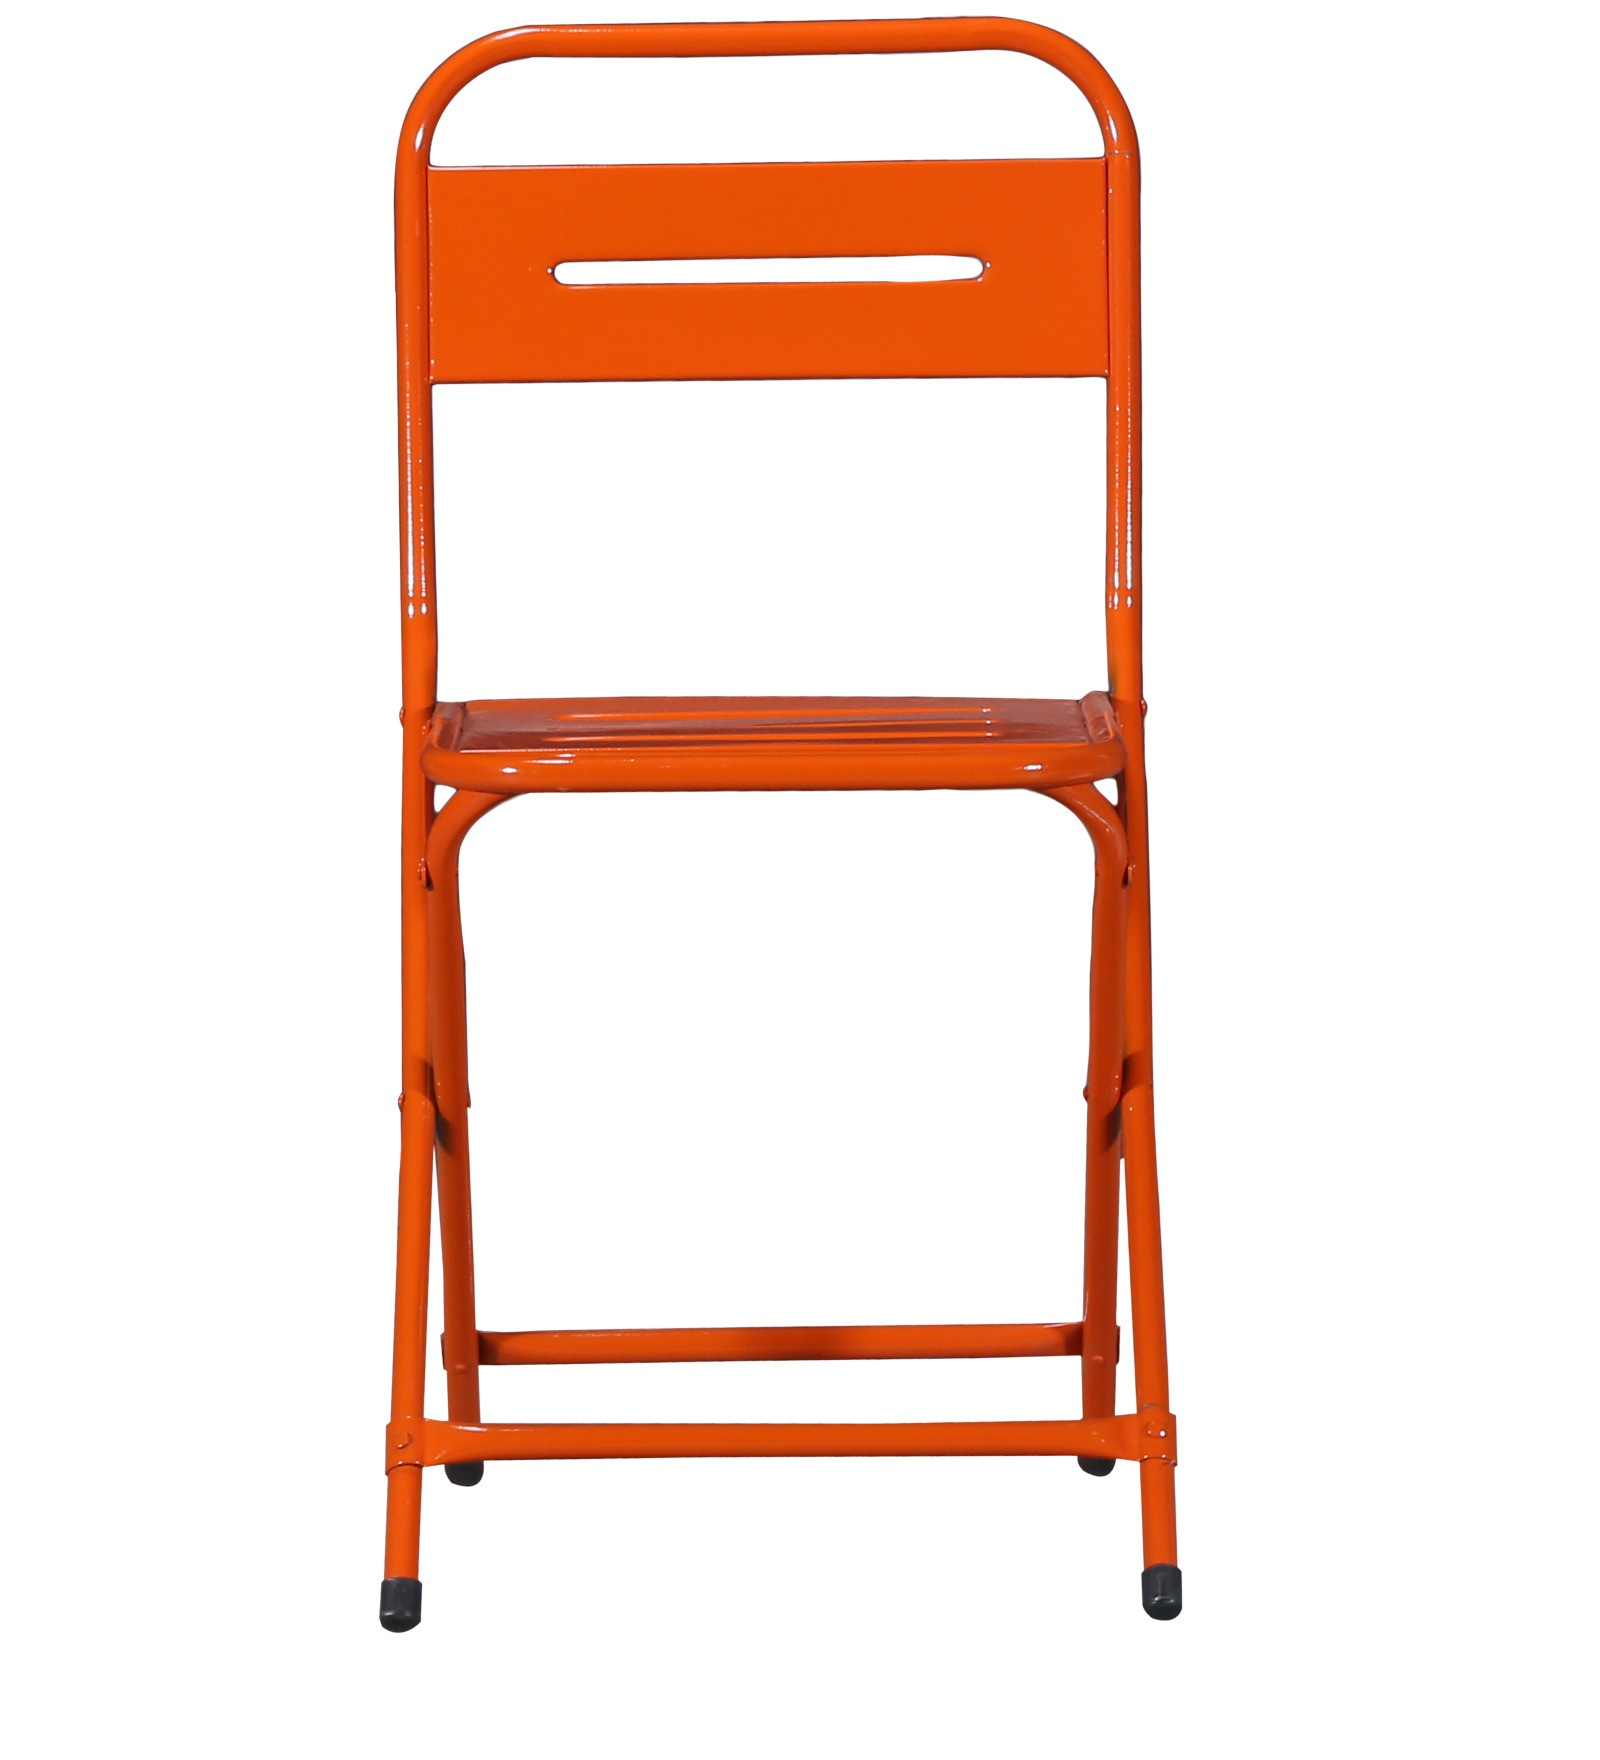Marandoo Grunge Orange Outdoor Folding Chair by Bohemiana: (380, 12, 1203, 1622)
